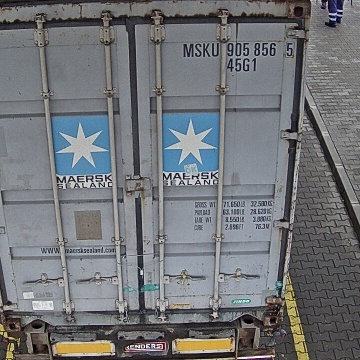serial_id: (182, 42, 293, 57)
